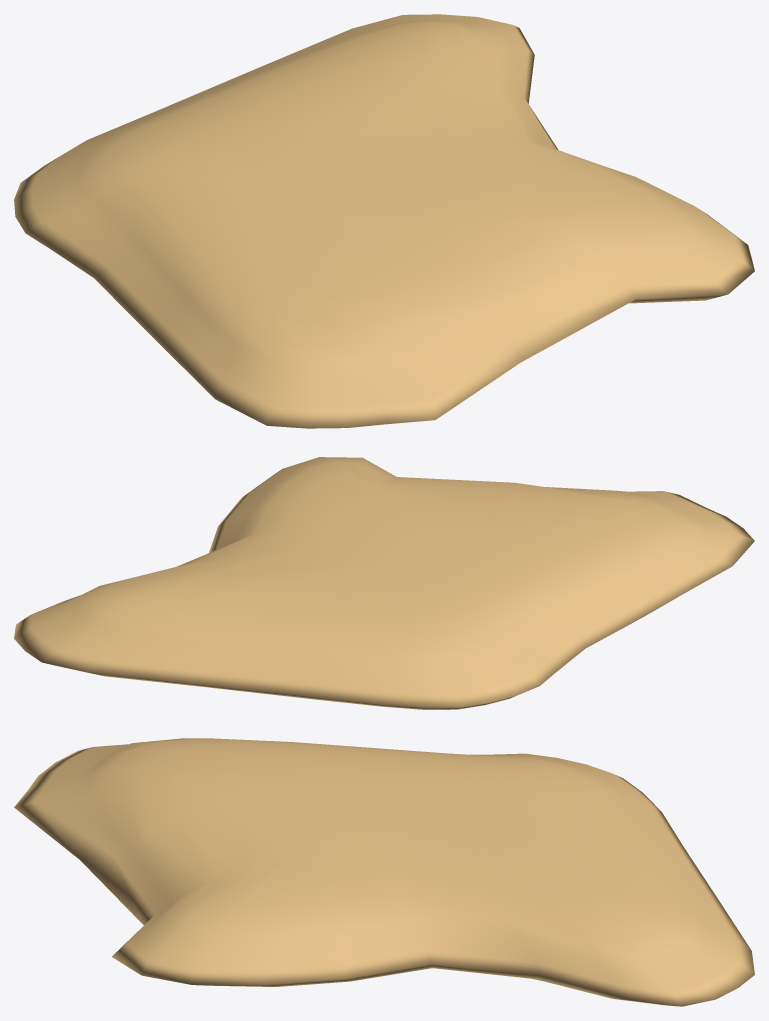
File: island1.gltf
3 renders of one model, top to bottom at view 1: azimuth 30°, elevation 25°; view 2: azimuth 150°, elevation 25°; view 3: azimuth 270°, elevation 25°, orthographic. The views are drawn at different scales.
Parts seen in each view (by area): view 1: Island.001; view 2: Island.001; view 3: Island.001.
Part boxes in pixels (x1,y1,x2,y2): Island.001: (14,14,754,428); Island.001: (14,457,754,709); Island.001: (14,738,754,1006).
Bounding box in the file's own units: 8.35 × 1.39 × 10.02.
